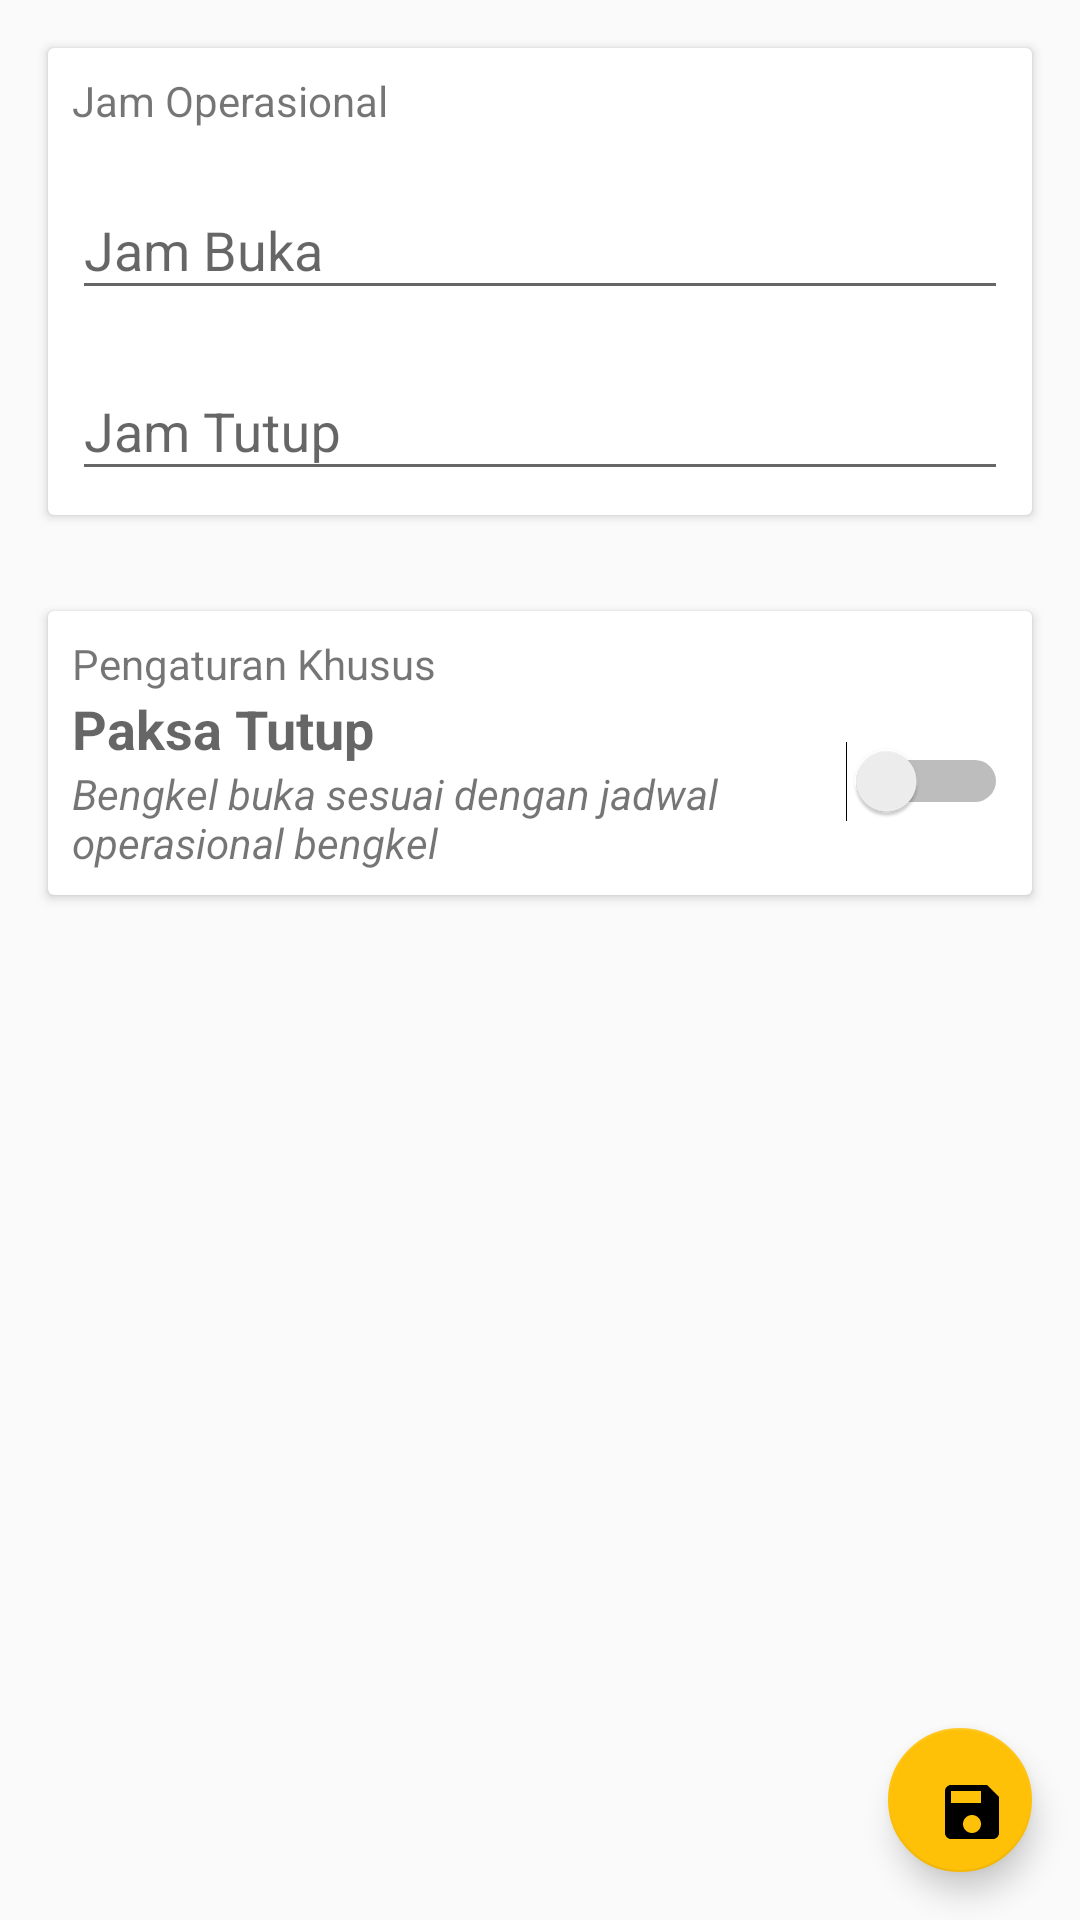

Named icons in this screenshot (1080 × 1920) and their centers, [x,y]:
save: [960,1800]
